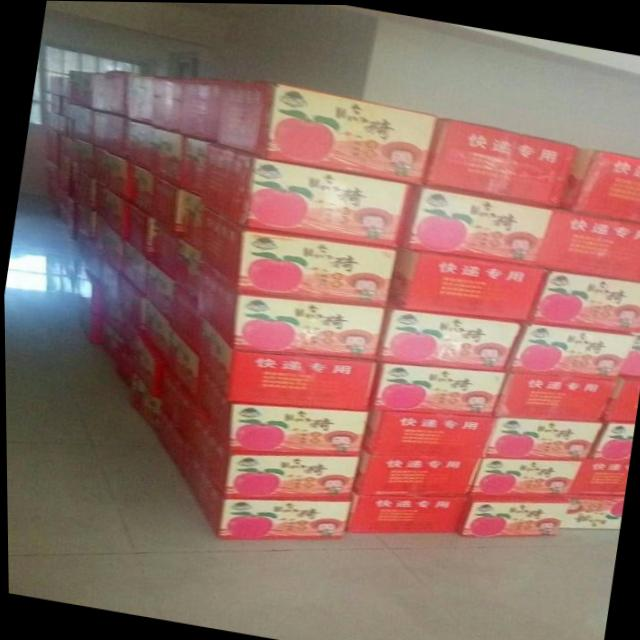box: (77, 179, 198, 471), (202, 143, 417, 248), (217, 82, 437, 183), (199, 206, 398, 306), (197, 259, 386, 361), (196, 314, 377, 410), (194, 362, 369, 457), (191, 405, 360, 501), (180, 450, 348, 539), (422, 115, 579, 207), (401, 184, 558, 264), (383, 249, 549, 321), (377, 306, 525, 372), (43, 71, 92, 246), (505, 320, 639, 380), (532, 207, 640, 280), (90, 76, 151, 202), (370, 360, 507, 416), (530, 266, 640, 332), (130, 168, 202, 260), (359, 410, 493, 459), (556, 144, 640, 222), (493, 371, 618, 421), (142, 260, 199, 359), (480, 417, 602, 460), (344, 492, 469, 533), (352, 455, 480, 495), (455, 493, 566, 536), (145, 128, 209, 195), (467, 459, 585, 495), (147, 222, 202, 297), (177, 79, 225, 144), (563, 461, 628, 496), (584, 420, 634, 463), (558, 496, 623, 529), (146, 77, 180, 136), (599, 378, 640, 421), (618, 333, 640, 381)
